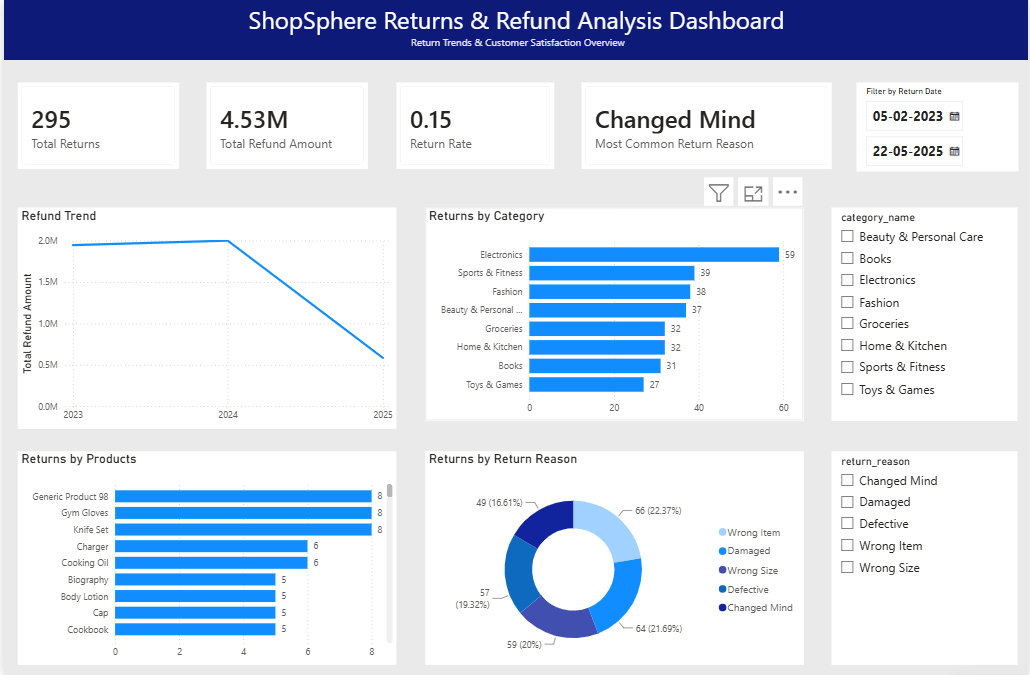

The dashboard page shown, as its layout file describes it:
{"tool":"powerbi","page":{"name":"Returns & Refund Analysis","canvas":[1366,900],"ordinal":5},"visuals":[{"type":"textbox","box":[0,0,1366.7,80],"z":0},{"type":"cardVisual","fields":{"Data":["Categories.Total Returns"]},"box":[18.3,110,215,115],"z":1000},{"type":"cardVisual","fields":{"Data":["Returns.Total Refund Amount"]},"box":[270,110,215,115],"z":2000},{"type":"cardVisual","fields":{"Data":["Categories.Return Rate"]},"box":[523.3,110,210,115],"z":3000},{"type":"cardVisual","fields":{"Data":["Categories.Most Common Return Reason"]},"box":[770,110,333.3,115],"z":4000},{"type":"slicer","fields":{"Values":["Returns.return_date"]},"box":[1136.7,110,215,118.3],"z":5000},{"type":"lineChart","title":"Refund Trend","fields":{"Category":["Returns.return_date.Variation.Date Hierarchy.Year","Returns.return_date.Variation.Date Hierarchy.Quarter","Returns.return_date.Variation.Date Hierarchy.Month","Returns.return_date.Variation.Date Hierarchy.Day"],"Y":["Returns.Total Refund Amount"]},"box":[18.3,276.7,505,295],"z":6000},{"type":"barChart","title":"Returns by Category","fields":{"Category":["Categories.category_name"],"Y":["Categories.Total Returns"]},"box":[561.7,276.7,505,285],"z":7000},{"type":"barChart","title":"Returns by Products","fields":{"Category":["Products.product_name"],"Y":["Categories.Total Returns"]},"box":[18.3,601.7,505,285],"z":8000},{"type":"donutChart","title":"Returns by Return Reason","fields":{"Category":["Returns.return_reason"],"Y":["Count(Returns.return_id)"]},"box":[561.7,601.7,505,285],"z":9000},{"type":"slicer","fields":{"Values":["Categories.category_name"]},"box":[1103.3,276.7,248.3,285],"z":10000},{"type":"slicer","fields":{"Values":["Returns.return_reason"]},"box":[1103.3,601.7,248.3,285],"z":11000}]}

Visuals, with their boxes in screenshot pixels (x1, y1, x2, y2), scaled from the page's 1366x900 canvas onto the 1030x675 screenshot:
textbox: x1=0, y1=0, x2=1029, y2=60
cardVisual - Categories.Total Returns: x1=14, y1=82, x2=176, y2=169
cardVisual - Returns.Total Refund Amount: x1=204, y1=82, x2=366, y2=169
cardVisual - Categories.Return Rate: x1=395, y1=82, x2=553, y2=169
cardVisual - Categories.Most Common Return Reason: x1=581, y1=82, x2=832, y2=169
slicer - Returns.return_date: x1=857, y1=82, x2=1019, y2=171
"Refund Trend" lineChart: x1=14, y1=208, x2=395, y2=429
"Returns by Category" barChart: x1=424, y1=208, x2=804, y2=421
"Returns by Products" barChart: x1=14, y1=451, x2=395, y2=665
"Returns by Return Reason" donutChart: x1=424, y1=451, x2=804, y2=665
slicer - Categories.category_name: x1=832, y1=208, x2=1019, y2=421
slicer - Returns.return_reason: x1=832, y1=451, x2=1019, y2=665
